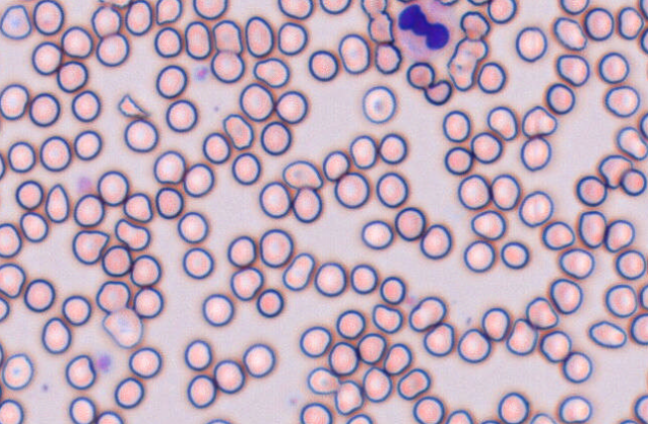GRAN: (390, 0, 459, 60)
PLT: (96, 351, 117, 373), (192, 64, 210, 82)
RBC: (408, 295, 446, 332), (239, 82, 274, 121), (361, 85, 396, 123), (259, 228, 293, 267), (338, 33, 370, 74), (334, 171, 369, 208), (518, 190, 553, 227), (244, 15, 274, 57), (282, 252, 314, 291), (549, 278, 583, 314), (258, 181, 291, 218), (1, 352, 33, 390), (123, 118, 158, 152), (419, 223, 452, 259), (375, 171, 408, 207), (505, 318, 537, 355), (210, 49, 244, 83), (95, 32, 129, 66), (553, 16, 587, 50), (229, 266, 263, 300), (95, 280, 130, 313), (457, 174, 490, 209), (457, 328, 490, 363), (558, 247, 594, 279), (515, 26, 547, 62), (39, 135, 71, 171), (604, 85, 640, 117), (396, 367, 430, 400), (556, 53, 590, 86), (242, 343, 275, 377), (32, 0, 64, 35), (486, 105, 518, 140), (97, 170, 129, 205), (314, 261, 346, 296), (470, 209, 506, 240), (252, 57, 289, 87), (41, 317, 71, 354), (490, 173, 520, 210), (525, 296, 558, 329), (60, 25, 93, 58), (422, 322, 454, 356), (213, 359, 245, 393), (23, 278, 55, 312), (275, 90, 307, 124), (153, 150, 185, 184), (155, 64, 187, 98), (128, 346, 162, 378), (605, 283, 637, 317), (212, 19, 243, 54), (183, 162, 214, 197), (520, 136, 551, 171), (394, 206, 425, 241), (260, 120, 291, 155), (334, 379, 364, 415), (362, 366, 392, 402), (292, 187, 322, 223), (0, 83, 29, 120), (578, 210, 606, 248), (539, 329, 571, 362), (165, 99, 197, 132), (202, 293, 234, 326), (616, 126, 647, 160), (31, 41, 62, 75), (277, 21, 308, 55), (29, 92, 60, 126), (73, 193, 104, 227), (184, 20, 211, 59), (56, 60, 88, 92), (470, 131, 502, 163), (299, 325, 331, 357), (575, 174, 607, 206), (463, 240, 495, 272), (604, 219, 635, 252), (598, 51, 629, 84), (186, 374, 216, 408), (328, 341, 358, 375), (541, 220, 575, 250), (130, 254, 161, 286), (497, 392, 529, 423), (182, 247, 213, 279), (177, 211, 208, 243), (231, 152, 261, 185), (584, 7, 614, 40), (481, 307, 510, 341), (124, 0, 152, 35), (349, 134, 377, 169), (44, 183, 69, 222), (615, 249, 646, 280), (91, 5, 121, 37), (101, 244, 131, 276), (356, 332, 386, 364), (562, 351, 592, 383), (133, 286, 163, 318), (545, 82, 575, 114), (226, 235, 256, 267), (308, 49, 338, 81), (361, 219, 393, 249), (71, 89, 100, 122), (558, 395, 592, 423), (459, 10, 490, 40), (123, 192, 153, 223), (114, 377, 144, 408), (61, 294, 91, 325), (383, 342, 412, 374), (477, 61, 506, 93), (378, 132, 407, 164), (442, 109, 470, 142), (0, 262, 25, 298), (335, 309, 365, 339), (19, 211, 48, 242), (153, 26, 182, 57), (73, 129, 102, 160), (412, 395, 444, 423), (202, 132, 230, 164), (155, 187, 183, 219), (7, 140, 35, 172), (617, 6, 644, 39), (322, 150, 350, 181), (15, 179, 43, 210), (184, 339, 212, 370), (374, 42, 401, 74), (443, 146, 472, 175), (500, 240, 529, 269), (350, 263, 377, 294), (455, 36, 488, 61), (406, 61, 435, 89), (0, 222, 22, 258), (256, 288, 283, 317), (620, 168, 647, 196), (68, 396, 96, 423), (379, 275, 405, 304), (486, 0, 516, 24), (299, 402, 332, 423), (277, 0, 313, 19), (192, 0, 227, 19), (155, 0, 182, 24), (0, 398, 23, 423), (630, 313, 647, 345), (360, 0, 387, 17), (319, 0, 351, 14), (559, 0, 589, 14), (444, 409, 473, 423), (634, 394, 647, 423), (95, 410, 124, 423), (529, 412, 557, 423), (345, 413, 372, 423), (98, 0, 131, 8), (0, 296, 9, 322), (639, 111, 647, 140), (640, 27, 648, 54), (639, 283, 647, 310), (639, 0, 648, 19), (0, 151, 6, 179), (204, 417, 231, 423), (466, 0, 489, 6), (435, 0, 458, 6), (0, 342, 4, 367), (618, 418, 638, 423), (479, 419, 501, 423)
Schistocyte: (101, 307, 143, 348), (599, 153, 635, 189), (73, 229, 109, 264), (521, 103, 558, 137), (114, 219, 150, 251), (283, 160, 324, 188), (223, 113, 254, 150), (0, 5, 33, 39), (64, 355, 97, 389), (449, 54, 479, 90), (589, 320, 627, 348), (307, 366, 341, 394), (372, 304, 403, 334), (118, 93, 151, 119), (367, 13, 395, 43), (425, 80, 453, 105)
